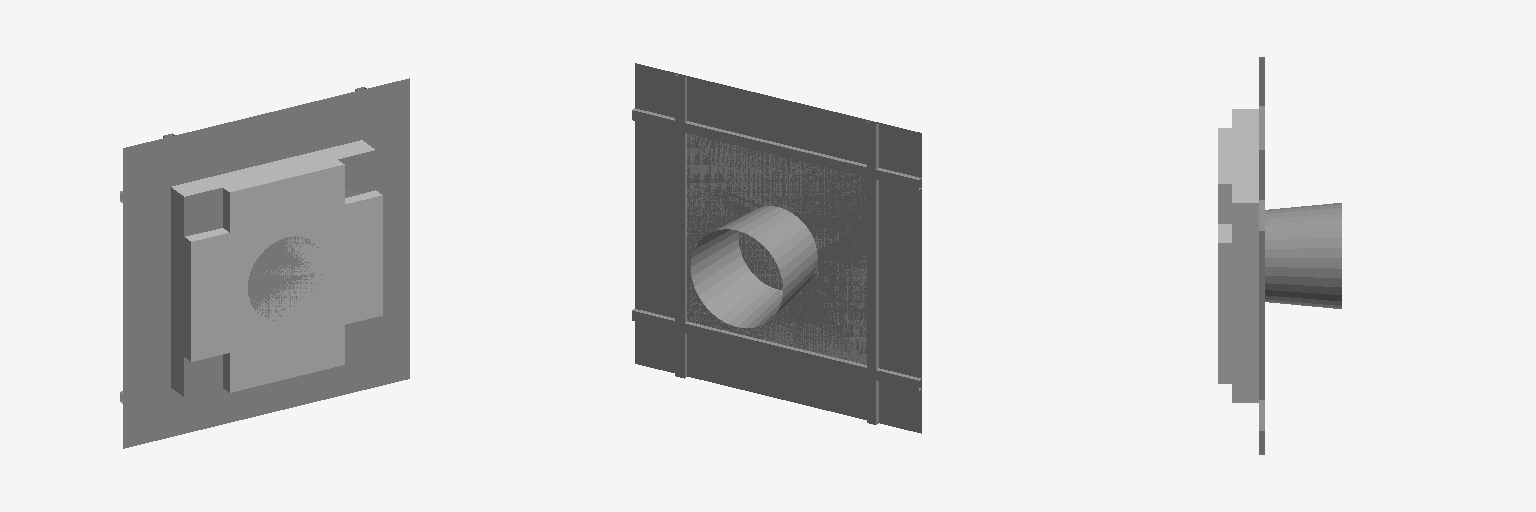
The model's file is aucman_vault_ceiling_floor.obj.
The picture shows the model from 3 angles: view 1: azimuth 30°, elevation 25°; view 2: azimuth 150°, elevation 25°; view 3: azimuth 270°, elevation 25°; orthographic projection.
Parts seen in each view (by area): view 1: g_solid_vault, c_box_008, c_box_007, c_box_006, c_box_005, c_box_solid, g_dest_floor4, g_disk, g_solid_floor4, c_box_013, g_dest_decals; view 2: g_solid_vault, g_dest_vault.001, g_hole_glow, c_box_solid; view 3: g_hole_glow, c_box_solid, g_solid_vault, c_box_013, c_box_005, c_box_008, c_box_003, c_box_007, c_box_004.
Part boxes in pixels (x1,y1,x2,y2): g_solid_vault: (120, 78, 409, 448); c_box_008: (184, 190, 382, 301); c_box_007: (184, 255, 382, 361); c_box_006: (223, 174, 286, 392); c_box_005: (280, 159, 344, 378); c_box_solid: (171, 140, 374, 395); g_dest_floor4: (184, 151, 375, 396); g_disk: (248, 236, 322, 320); g_solid_floor4: (184, 150, 375, 396); c_box_013: (178, 146, 372, 396); g_dest_decals: (206, 189, 363, 374); g_solid_vault: (632, 63, 921, 433); g_dest_vault.001: (687, 134, 866, 363); g_hole_glow: (691, 206, 817, 327); c_box_solid: (687, 134, 866, 364); g_hole_glow: (1265, 203, 1341, 308); c_box_solid: (1232, 109, 1258, 402); g_solid_vault: (1259, 57, 1264, 454); c_box_013: (1232, 109, 1244, 402); c_box_005: (1218, 156, 1231, 383); c_box_008: (1218, 224, 1231, 302); c_box_003: (1232, 303, 1258, 342); c_box_007: (1218, 303, 1231, 362); c_box_004: (1232, 263, 1258, 302).
Bounding box in the file's own units: 600 × 600 × 225.